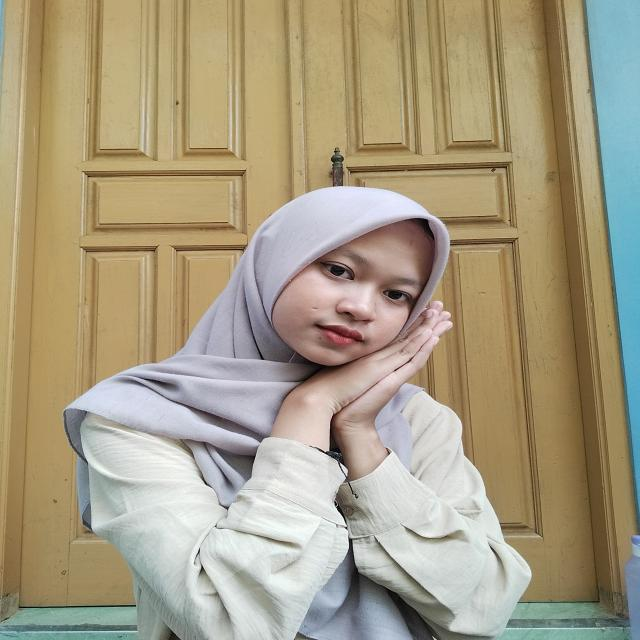tidur: (262, 303, 456, 468)
